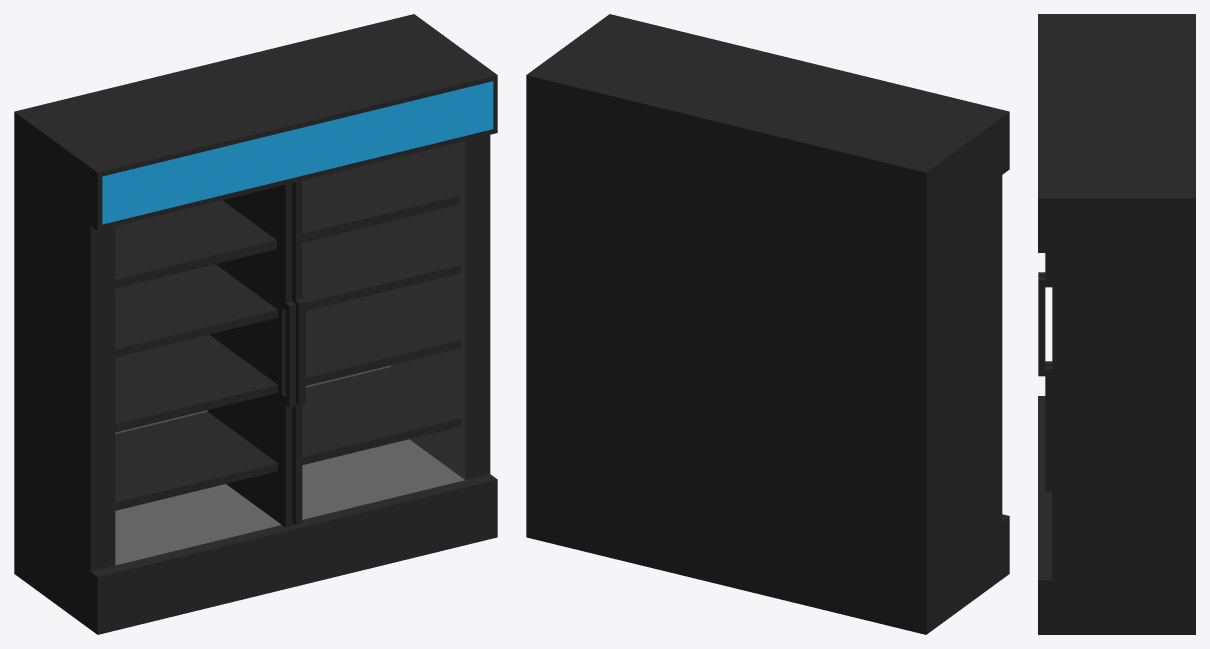
The model's file is Fridge.fbx.
3 renders of one model, left to right at view 1: azimuth 30°, elevation 25°; view 2: azimuth 150°, elevation 25°; view 3: azimuth 270°, elevation 25°, orthographic. The views are drawn at different scales.
Visible parts, largest first — view 1: Cube; view 2: Cube; view 3: Cube.
Part boxes in pixels (x1,y1,x2,y2): Cube: (14, 14, 497, 634); Cube: (526, 14, 1009, 634); Cube: (1038, 14, 1195, 634).
Bounding box in the file's own units: 720 × 795 × 260.
